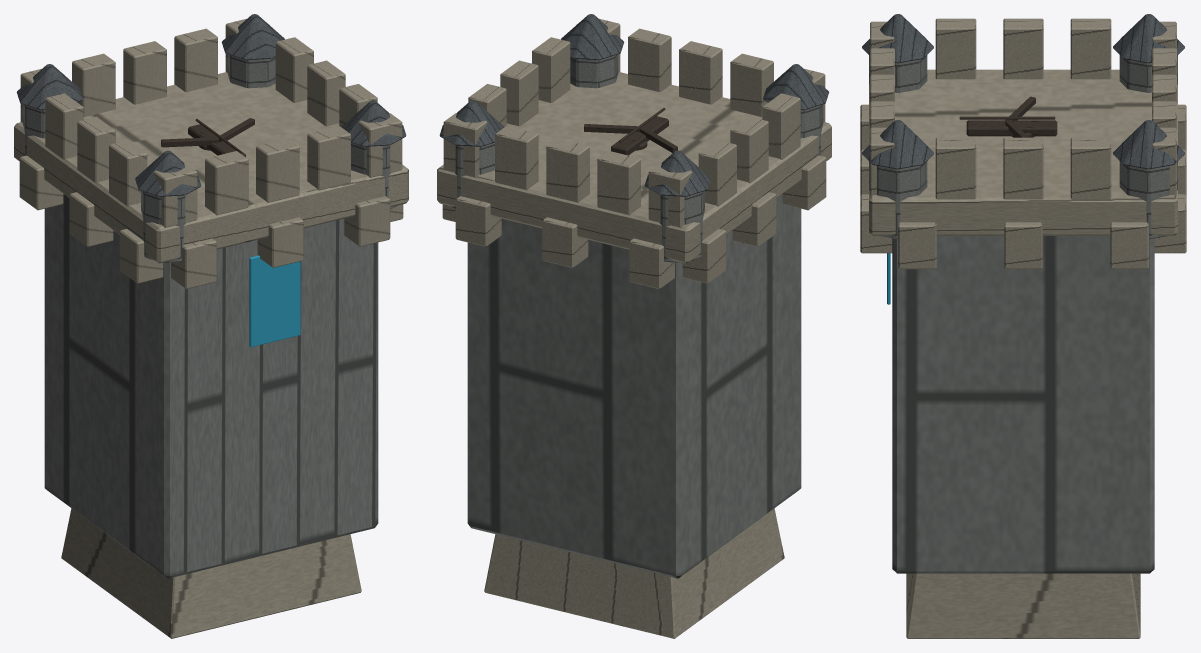
Rendered from edificio-tower-e2-lod0-DpdHcMJR.glb.
The picture shows the model from 3 angles, left to right: view 1: azimuth 30°, elevation 25°; view 2: azimuth 150°, elevation 25°; view 3: azimuth 270°, elevation 25°; orthographic projection. The views are drawn at different scales.
Parts seen in each view (by area): view 1: envolvente_torre, team_color, mecanismo_ataque_torre_e2; view 2: envolvente_torre, mecanismo_ataque_torre_e2; view 3: envolvente_torre, mecanismo_ataque_torre_e2.
Boxes of the visible parts, x1,y1,x2,y2 form: envolvente_torre: (14,14,408,638); team_color: (249,255,300,347); mecanismo_ataque_torre_e2: (161,118,254,156); envolvente_torre: (437,14,831,638); mecanismo_ataque_torre_e2: (584,107,677,155); envolvente_torre: (860,14,1186,638); mecanismo_ataque_torre_e2: (959,96,1057,137).
Size of the model in its own units: 33.8 by 59.63 by 33.8.
2 materials, 1 textured.
